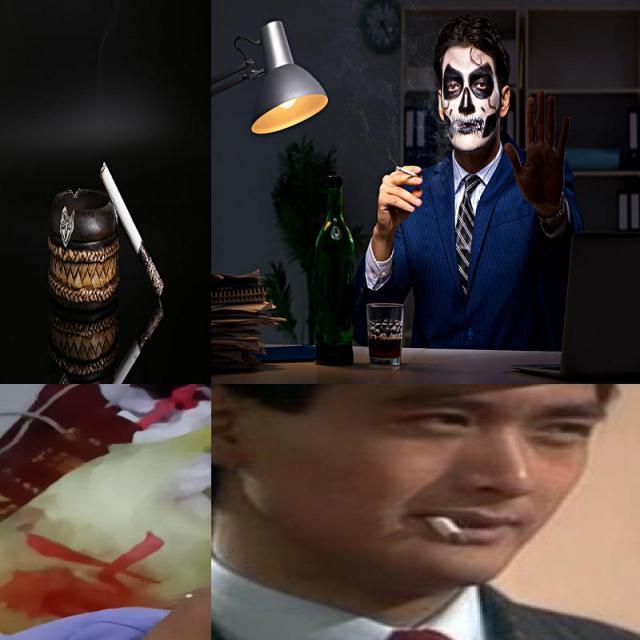cigarette: (98, 156, 165, 300), (100, 301, 169, 383), (413, 512, 480, 546), (394, 166, 424, 180)
